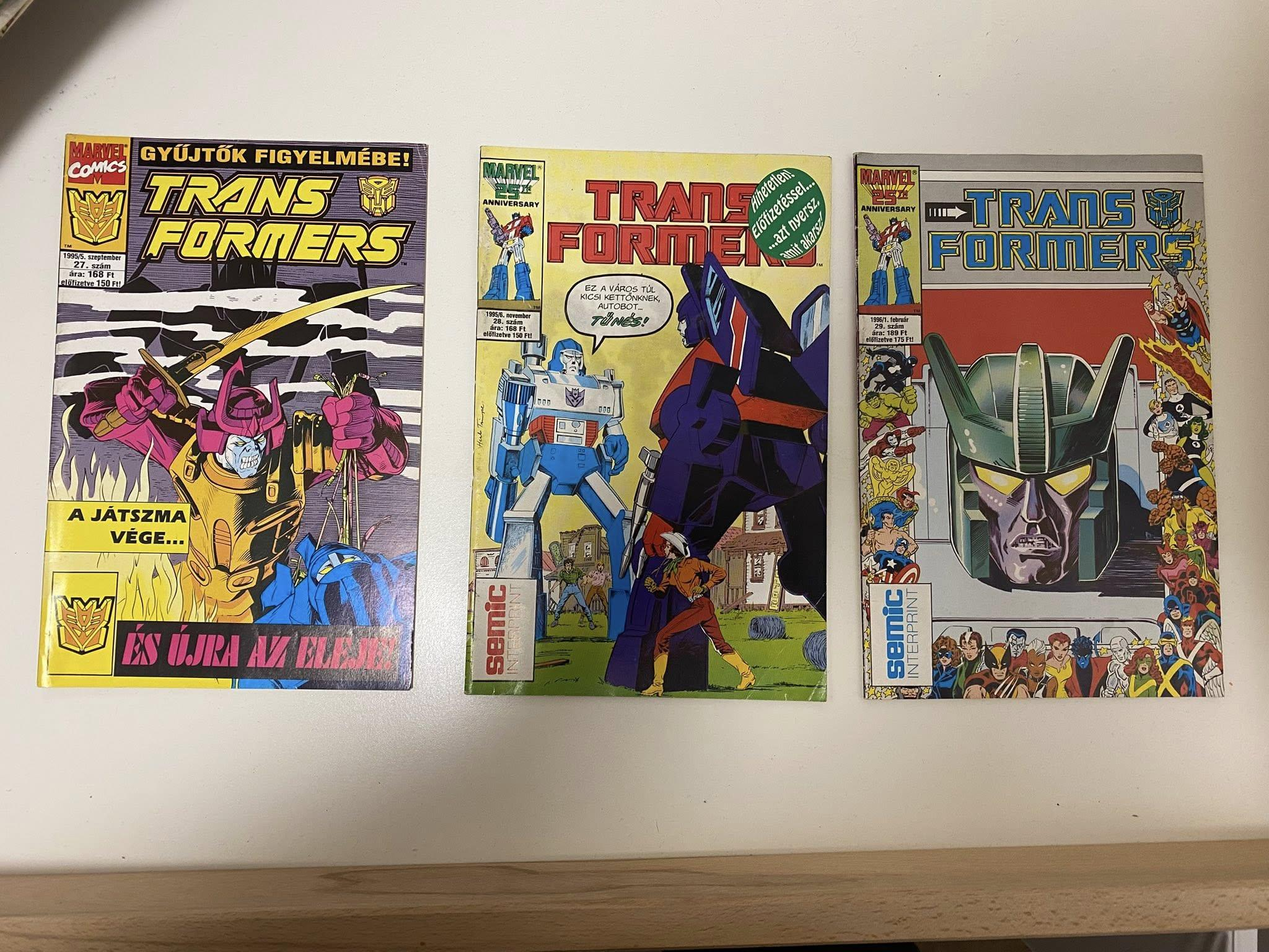comic: (37, 127, 438, 703), (854, 150, 1223, 701), (467, 147, 835, 699)
